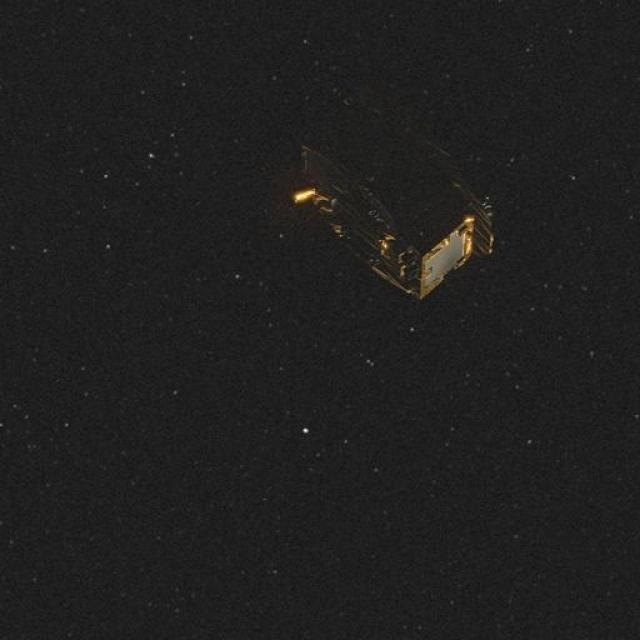lisa_pathfinder: (253, 97, 517, 310)
